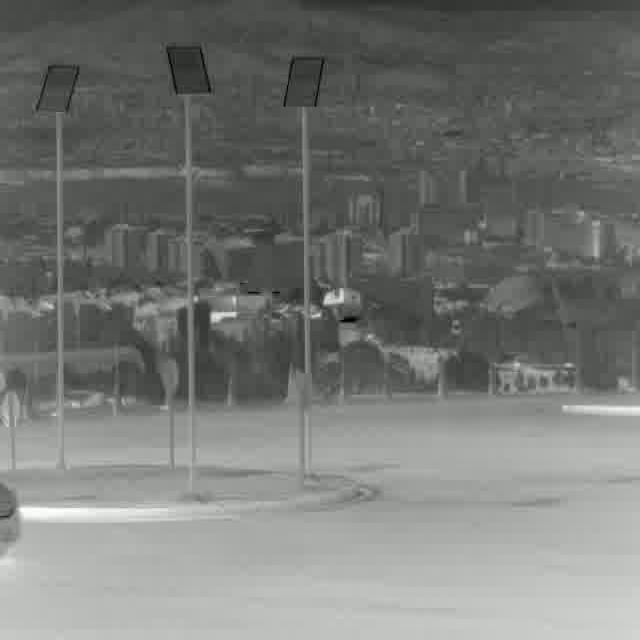Car: (0, 480, 20, 557)
